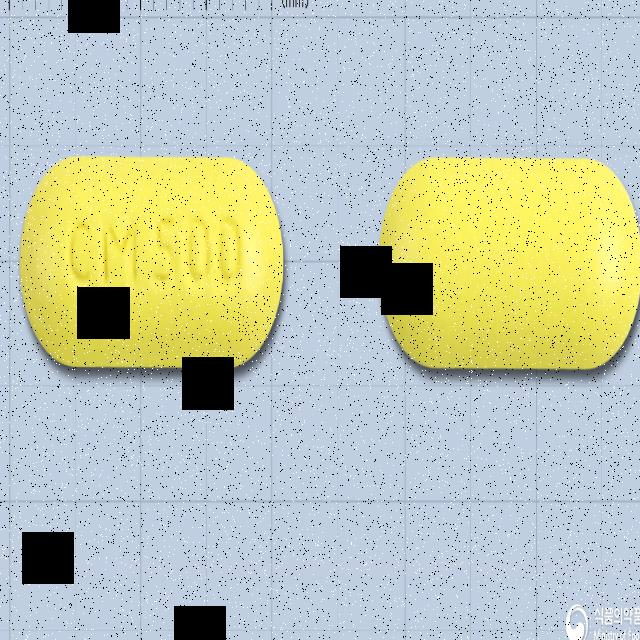Claricin: (15, 150, 288, 376)
